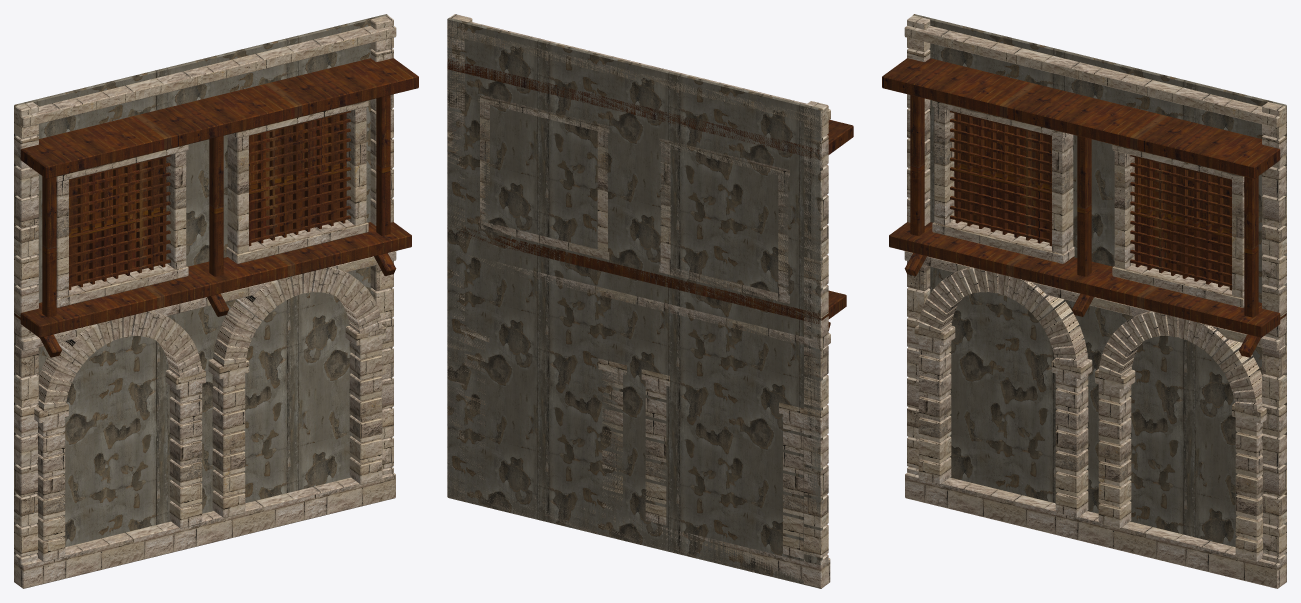
File: fountain-east.glb
3 views of the same model, side by side, from view 1: azimuth 30°, elevation 25°; view 2: azimuth 150°, elevation 25°; view 3: azimuth 330°, elevation 25° (orthographic).
Visible parts, largest first — view 1: Weathered merchant lime wall; view 2: Weathered merchant lime wall; view 3: Weathered merchant lime wall.
Part boxes in pixels (x1,y1,x2,y2): Weathered merchant lime wall: (14, 14, 418, 588); Weathered merchant lime wall: (447, 14, 853, 588); Weathered merchant lime wall: (882, 14, 1286, 588).
Size of the model in its own units: 5.72 by 7 by 0.86.
3 materials, 3 textured.
